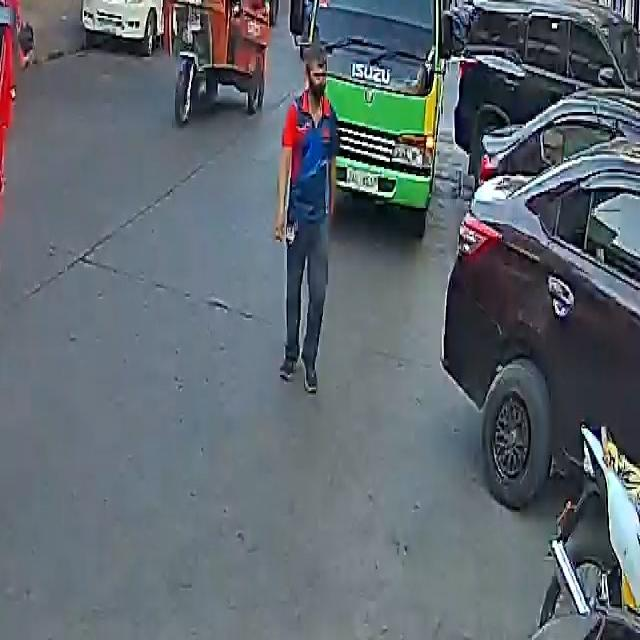car: (444, 149, 640, 503), (452, 0, 640, 185), (79, 0, 166, 55)
